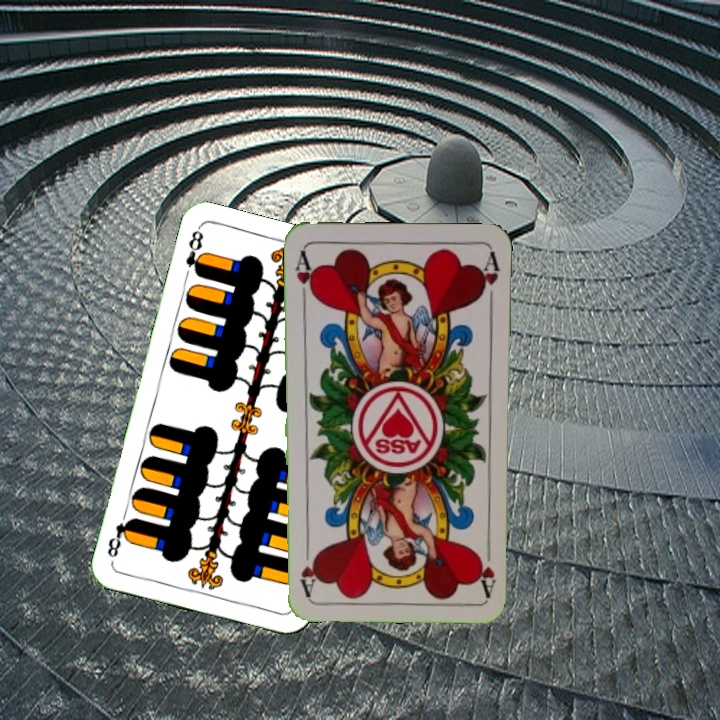E8: (181, 225, 208, 280)
HA: (291, 246, 317, 305), (473, 539, 499, 598)
